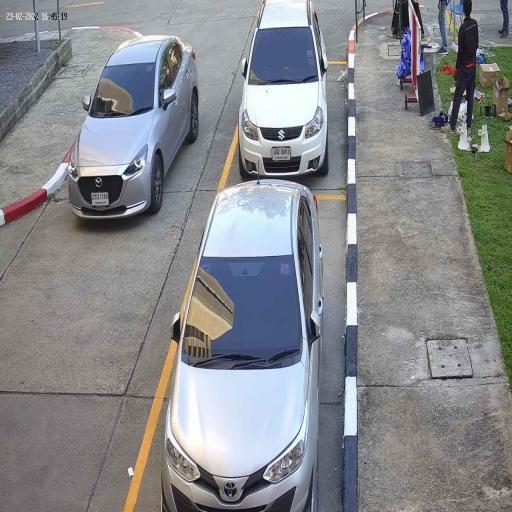car: (161, 179, 323, 509), (69, 35, 199, 221), (238, 0, 328, 176)
